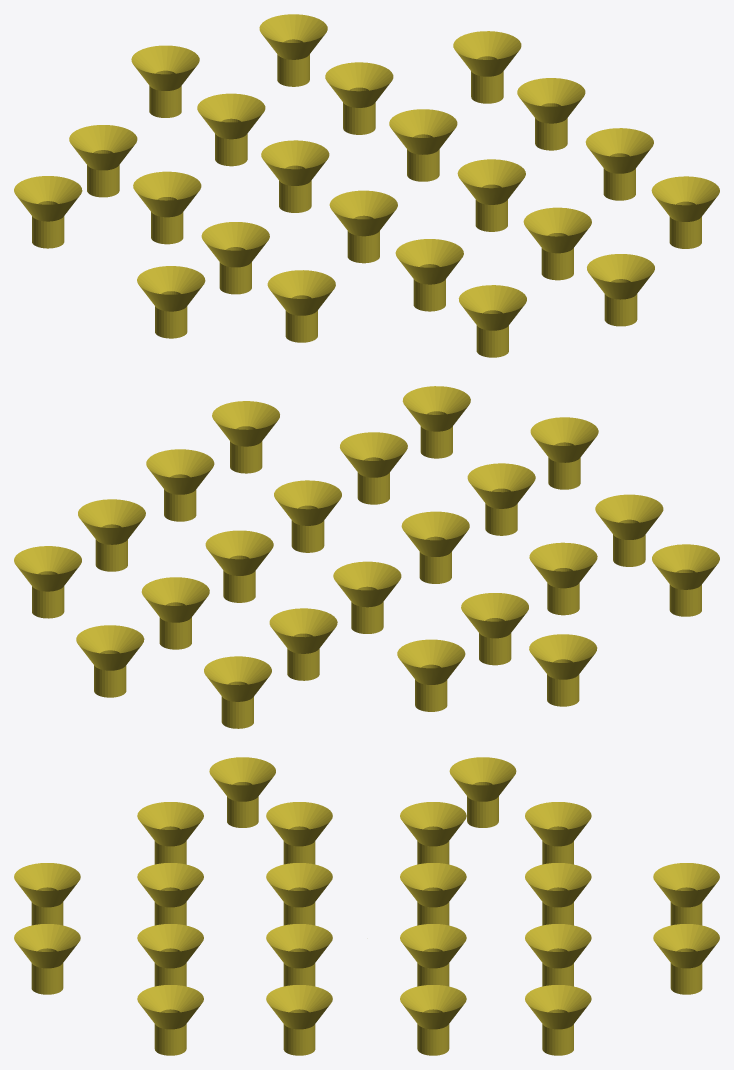
Rendered from route.glb.
3 renders of one model, top to bottom at view 1: azimuth 30°, elevation 25°; view 2: azimuth 150°, elevation 25°; view 3: azimuth 270°, elevation 25°, orthographic. The views are drawn at different scales.
Visible parts, largest first — view 1: filter_route; view 2: filter_route; view 3: filter_route.
Part boxes in pixels (left/top/right/bottom): filter_route: left=14, top=14, right=719, bottom=357; filter_route: left=14, top=386, right=719, bottom=728; filter_route: left=14, top=757, right=719, bottom=1055.
Size of the model in its own units: 7.6 by 0.6941 by 8.86.
